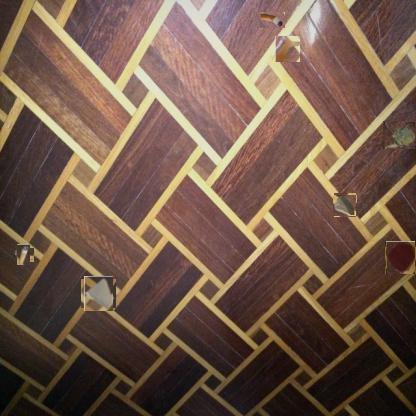dirty: (83, 278, 114, 310), (384, 121, 416, 149), (333, 194, 357, 217), (257, 12, 285, 28), (15, 246, 32, 264)
liquid: (386, 241, 416, 274), (275, 36, 300, 62)
